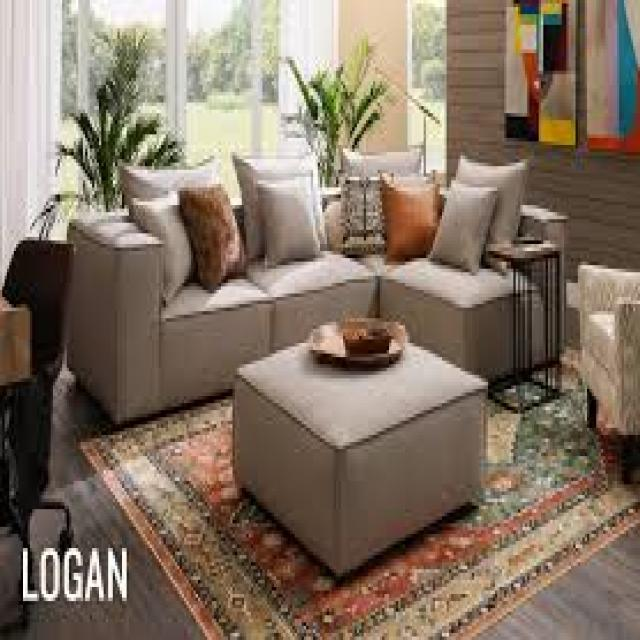Chair: (0, 230, 89, 572), (575, 234, 640, 469)
Sofa: (49, 164, 392, 382), (352, 121, 559, 382)
Table: (212, 320, 516, 562), (480, 220, 568, 404)
